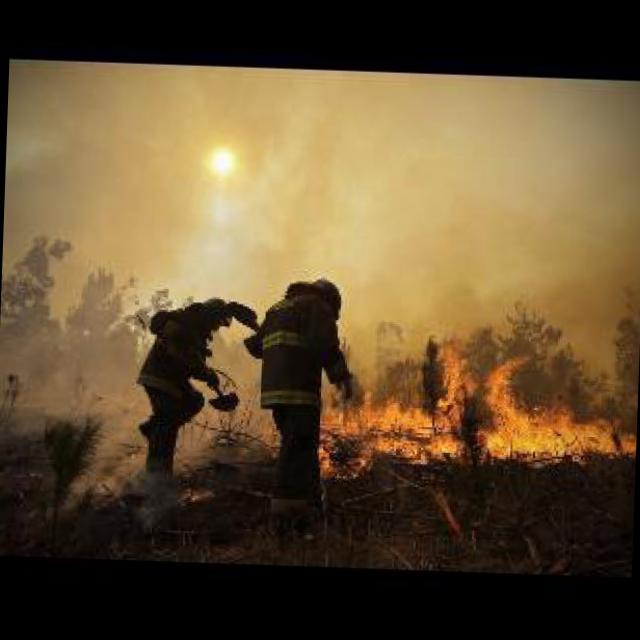fire: (314, 336, 640, 492)
